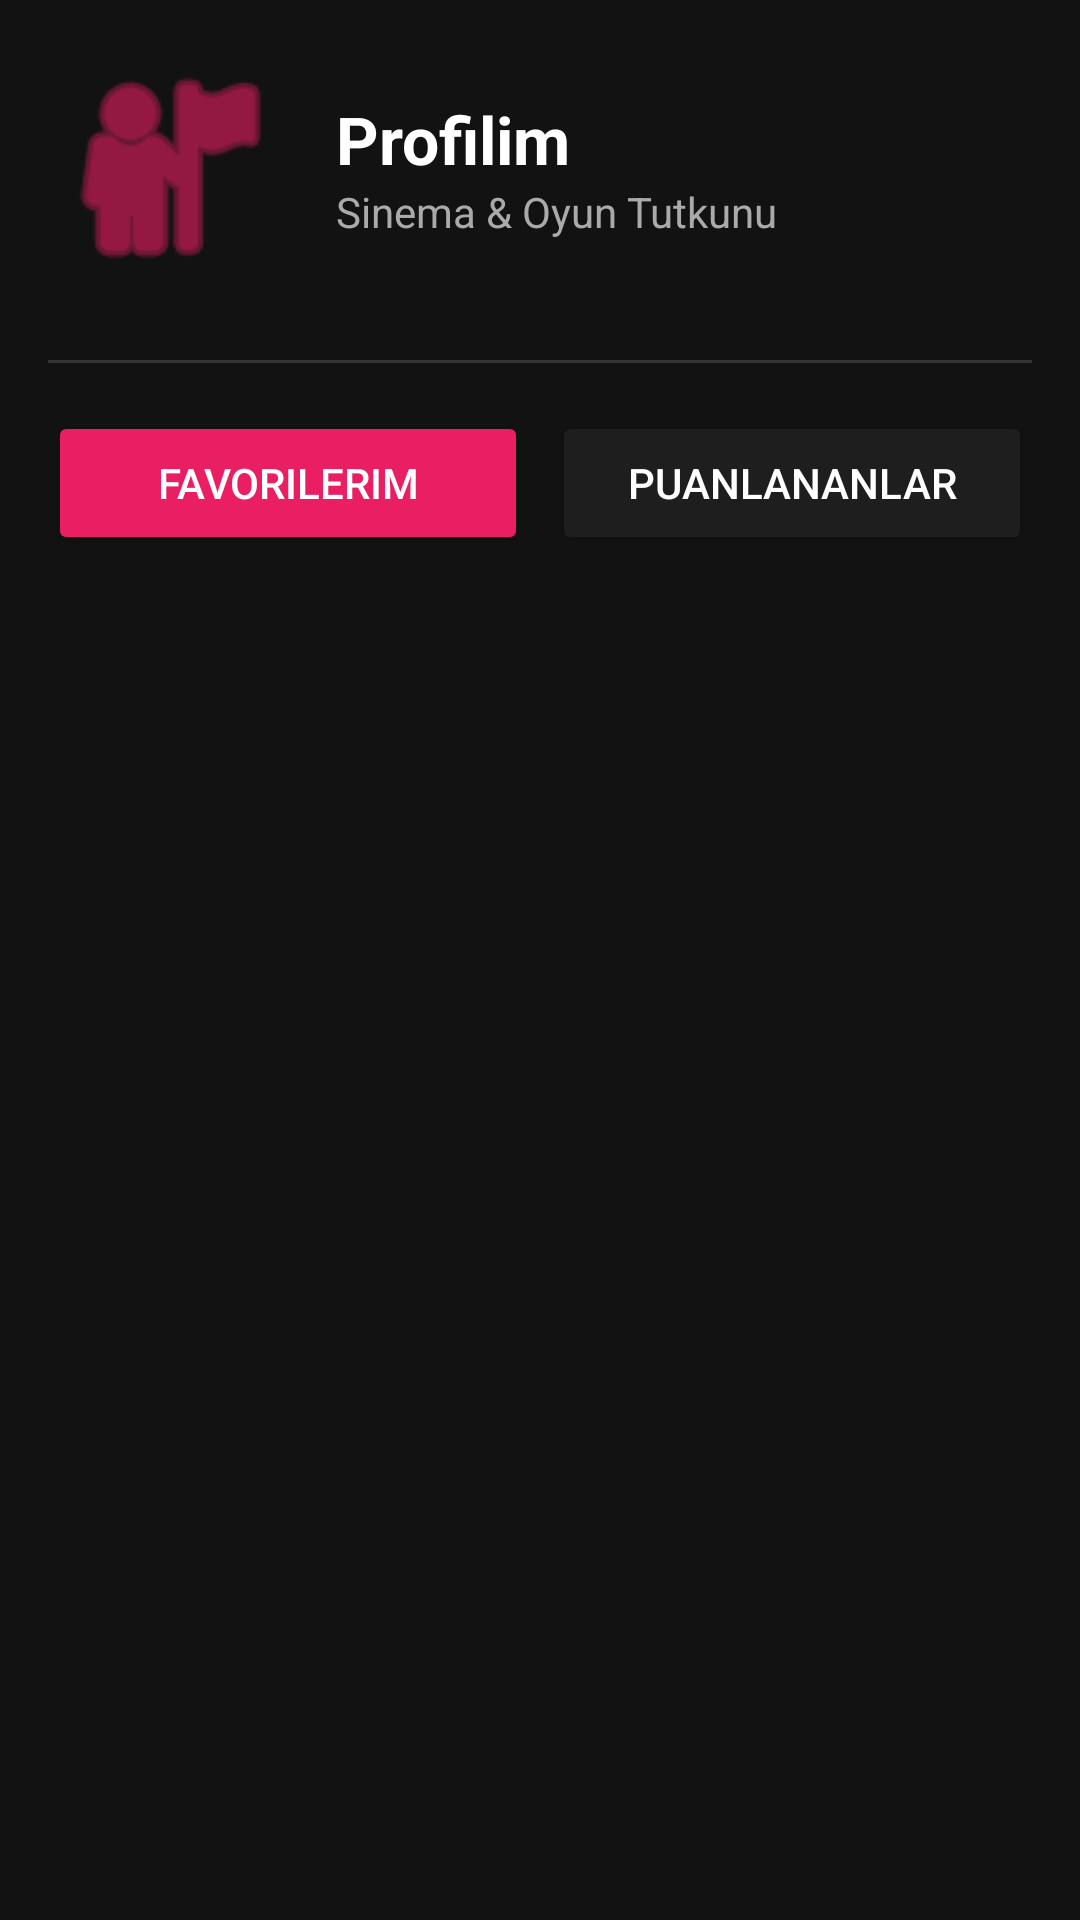

Icons on this 1080px×1920px Android screen, each with its box as (x1, y1, x2, y2):
myplaces: (80, 78, 261, 258)
